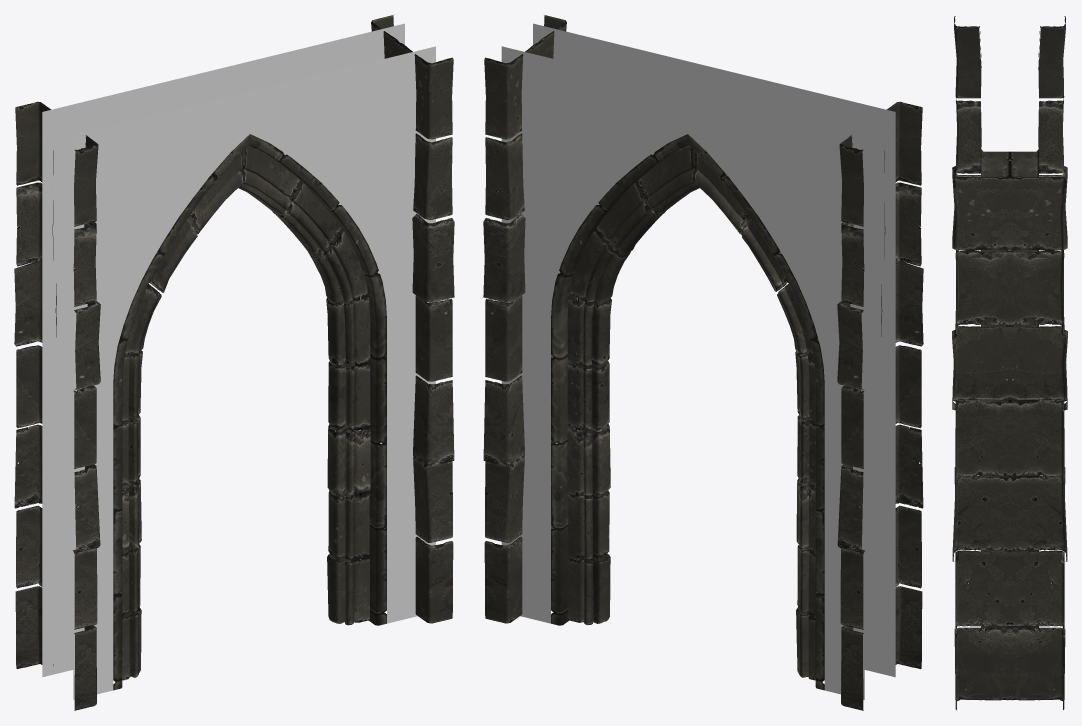
3 renders of one model, left to right at view 1: azimuth 30°, elevation 25°; view 2: azimuth 150°, elevation 25°; view 3: azimuth 270°, elevation 25°, orthographic. The views are drawn at different scales.
Visible parts, largest first — view 1: SM_Greathall_Int_Arch_01_LOD0; view 2: SM_Greathall_Int_Arch_01_LOD0; view 3: SM_Greathall_Int_Arch_01_LOD0.
Part boxes in pixels (x1,y1,x2,y2): SM_Greathall_Int_Arch_01_LOD0: [14, 15, 454, 710]; SM_Greathall_Int_Arch_01_LOD0: [483, 15, 923, 710]; SM_Greathall_Int_Arch_01_LOD0: [952, 16, 1067, 709].
Size of the model in its own units: 7 by 10 by 2.
3 materials, 2 textured.
